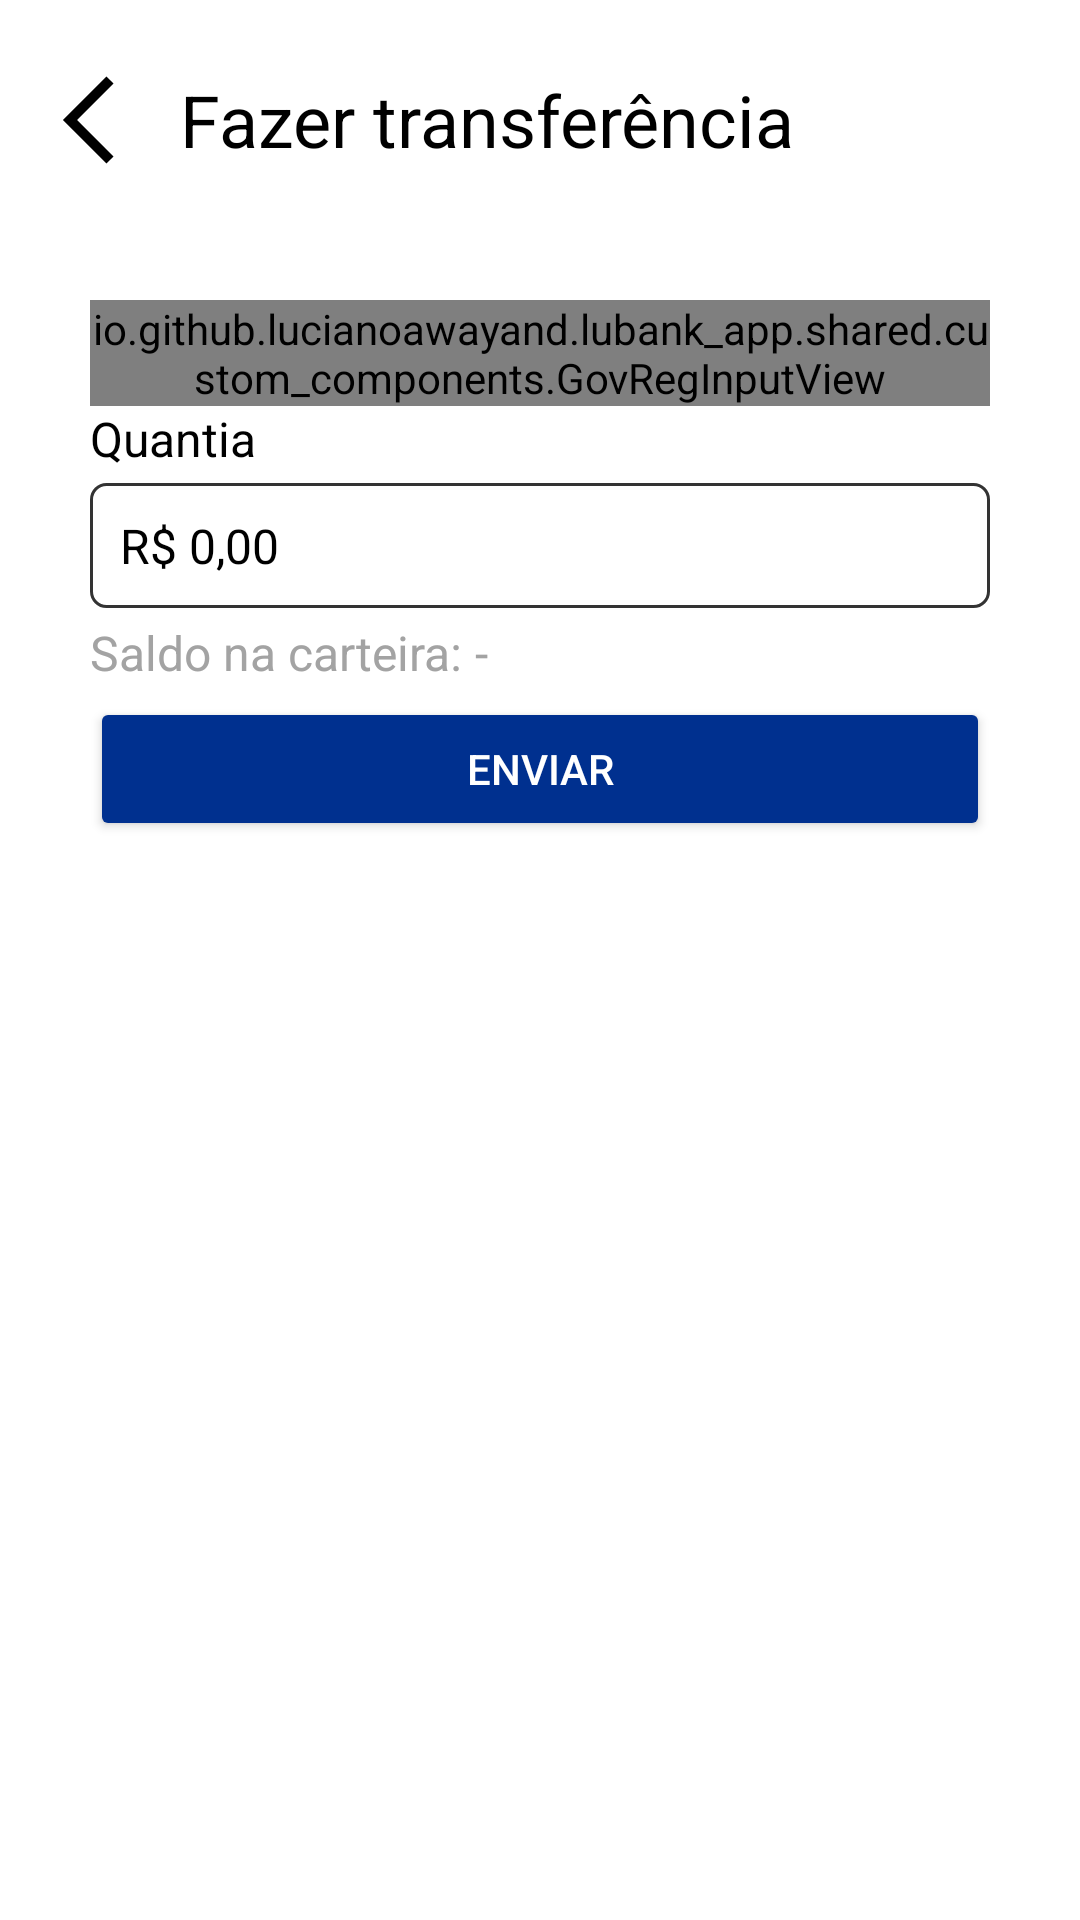

Screen size 1080px x 1920px. Icon name, then its center in pixels as (x,y):
return: (88,120)
